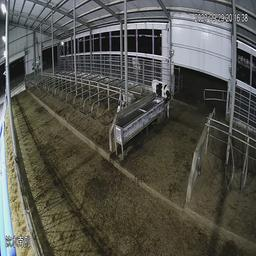cow: (150, 77, 171, 116), (113, 85, 133, 110)
